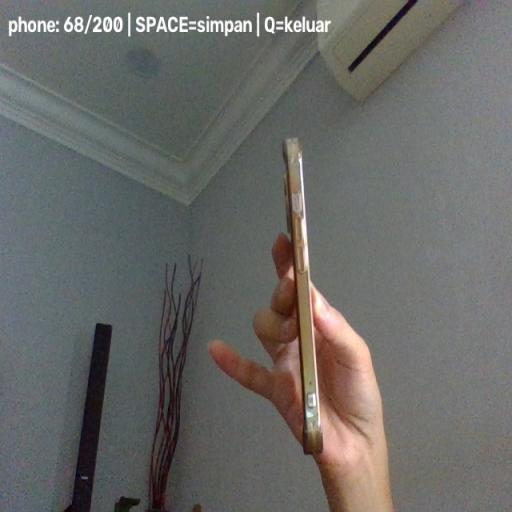Phone: (281, 136, 322, 456)
